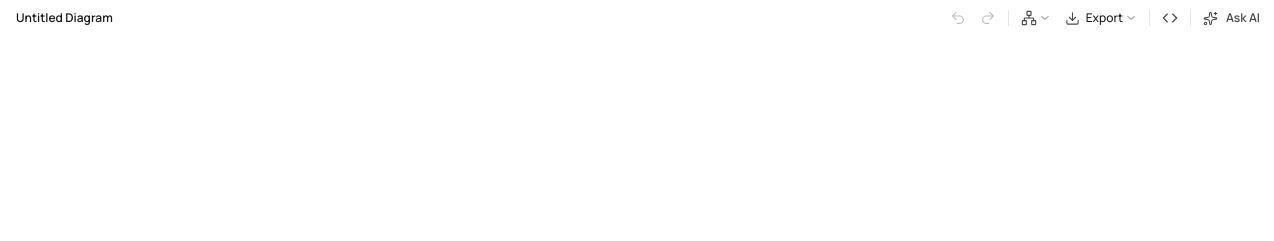
Scenario: Export ▾ (T17) › three copies (Markdown · image · SVG), three files (Markdown · PNG · SVG) — Markdown first, no PowerPoint (#192)
This screenshot has width=1274, height=241.
Click the button "Export": (1101, 18) [1059,4,1143,32]
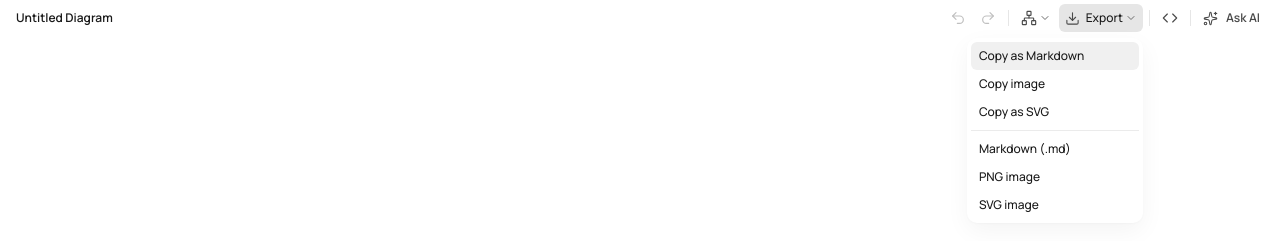
Result: the menu items read "Copy as Markdown", "Copy image", "Copy as SVG", "Markdown (.md)", "PNG image", "SVG image", in this order at [971,42,1139,70]; [971,70,1139,98]; [971,98,1139,126]; [971,135,1139,163]; [971,163,1139,191]; [971,191,1139,219]
Result: the button "Export" is expanded at [1059,4,1143,32]
